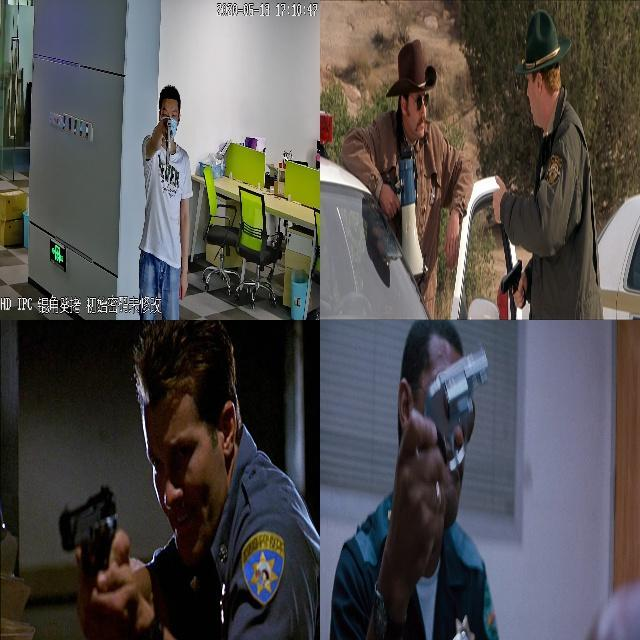gun-knife-thesis - v11 Yolov5 augmented: (406, 339, 493, 515), (49, 477, 125, 614), (493, 244, 534, 314), (160, 113, 172, 171)
